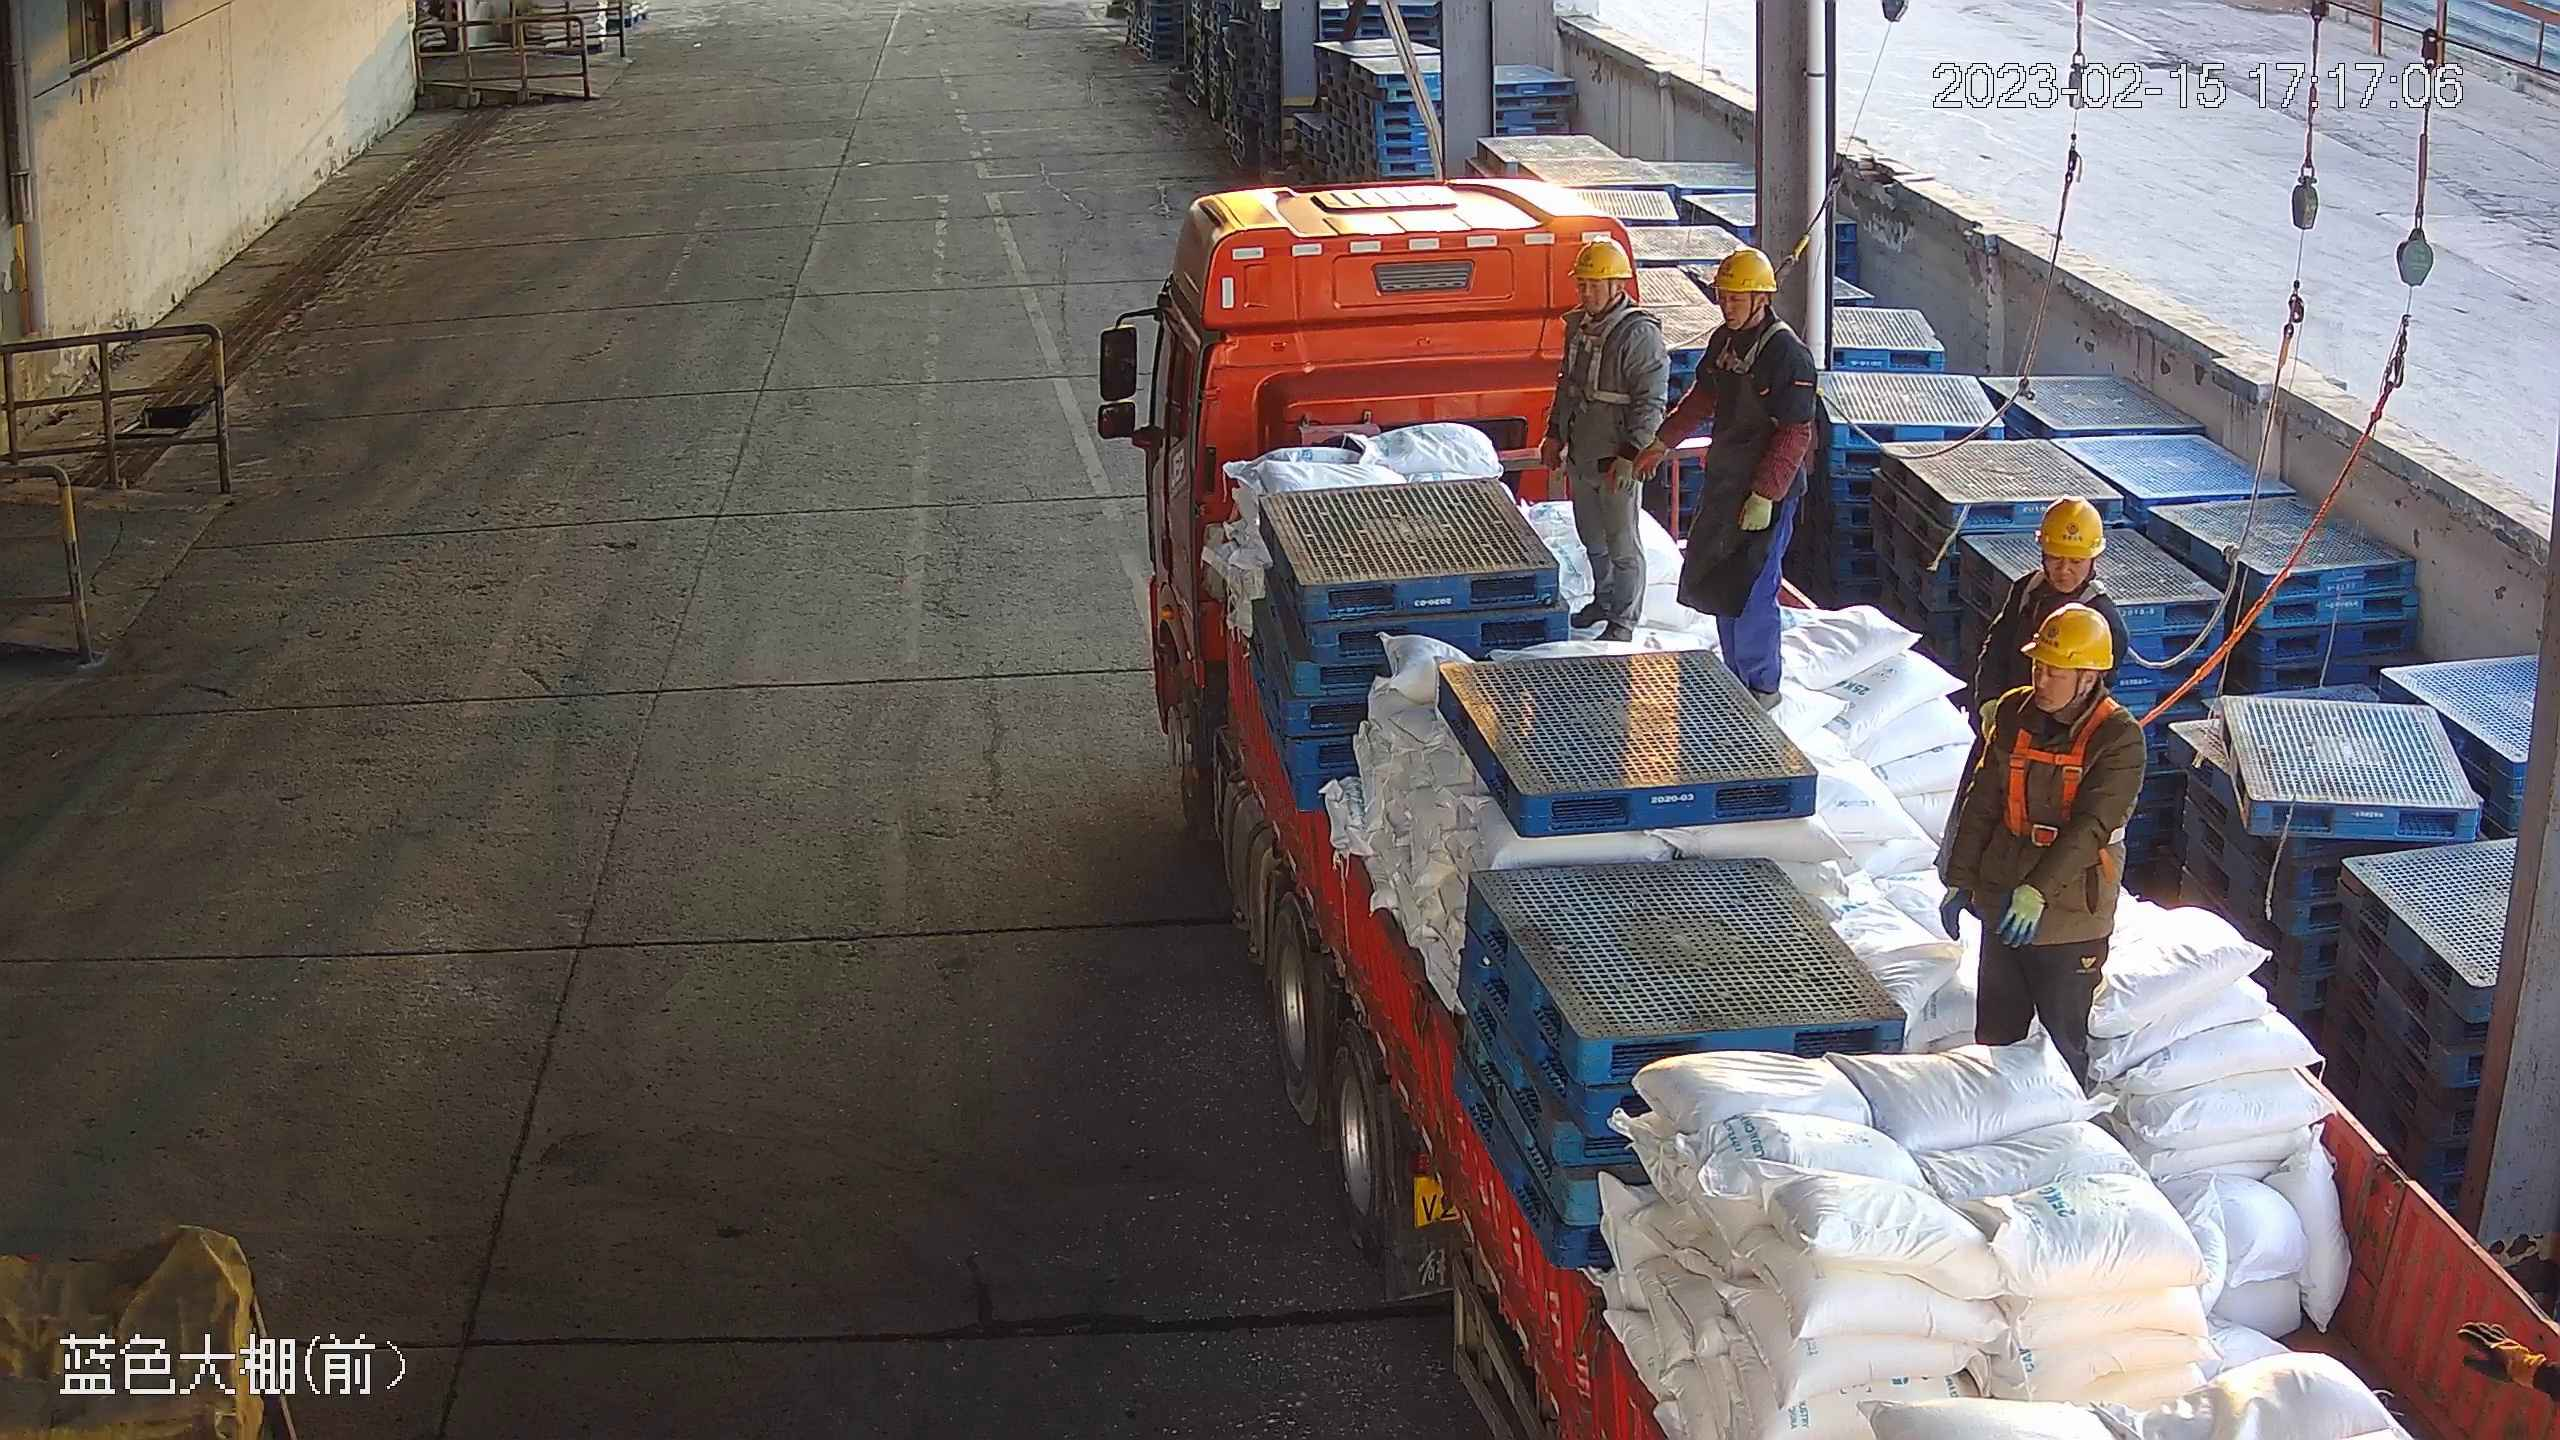belt: (1996, 703, 2116, 855), (1562, 303, 1659, 408), (1705, 312, 1814, 375), (2011, 558, 2107, 618)
head: (1964, 605, 2153, 790), (1686, 257, 1829, 386), (1551, 244, 1666, 370)
helmet: (2022, 599, 2116, 677), (2029, 494, 2123, 560), (1709, 238, 1779, 307), (1572, 231, 1636, 295)
people: (1953, 595, 2140, 1090), (1662, 249, 1838, 701), (1544, 240, 1670, 655)
truck: (1105, 181, 2560, 1440)
